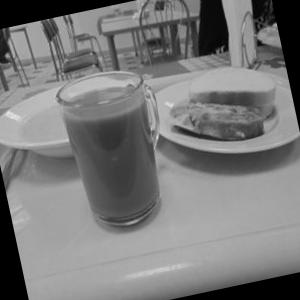bread: (169, 42, 280, 134)
cheese_sandwich: (161, 77, 272, 172)
coffee: (37, 59, 177, 252)
